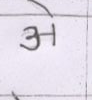e_matra: (25, 0, 55, 14)
